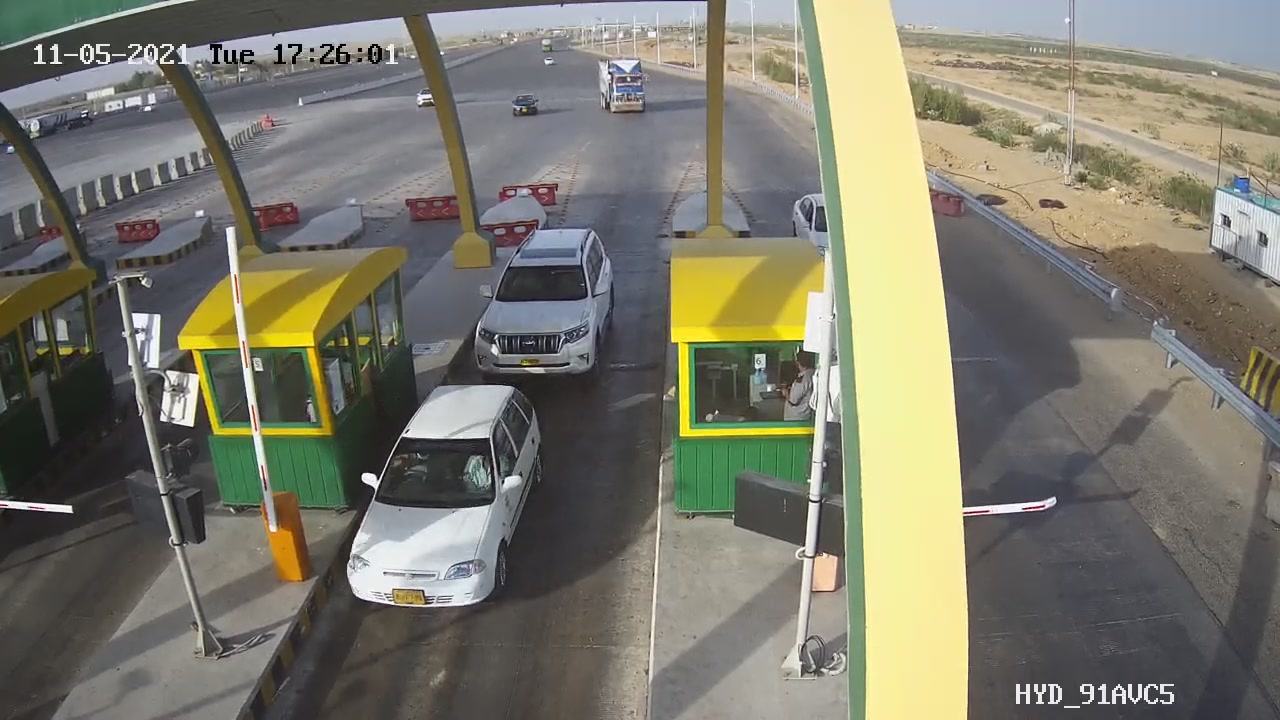F1: (330, 362, 568, 631), (456, 213, 640, 399)
